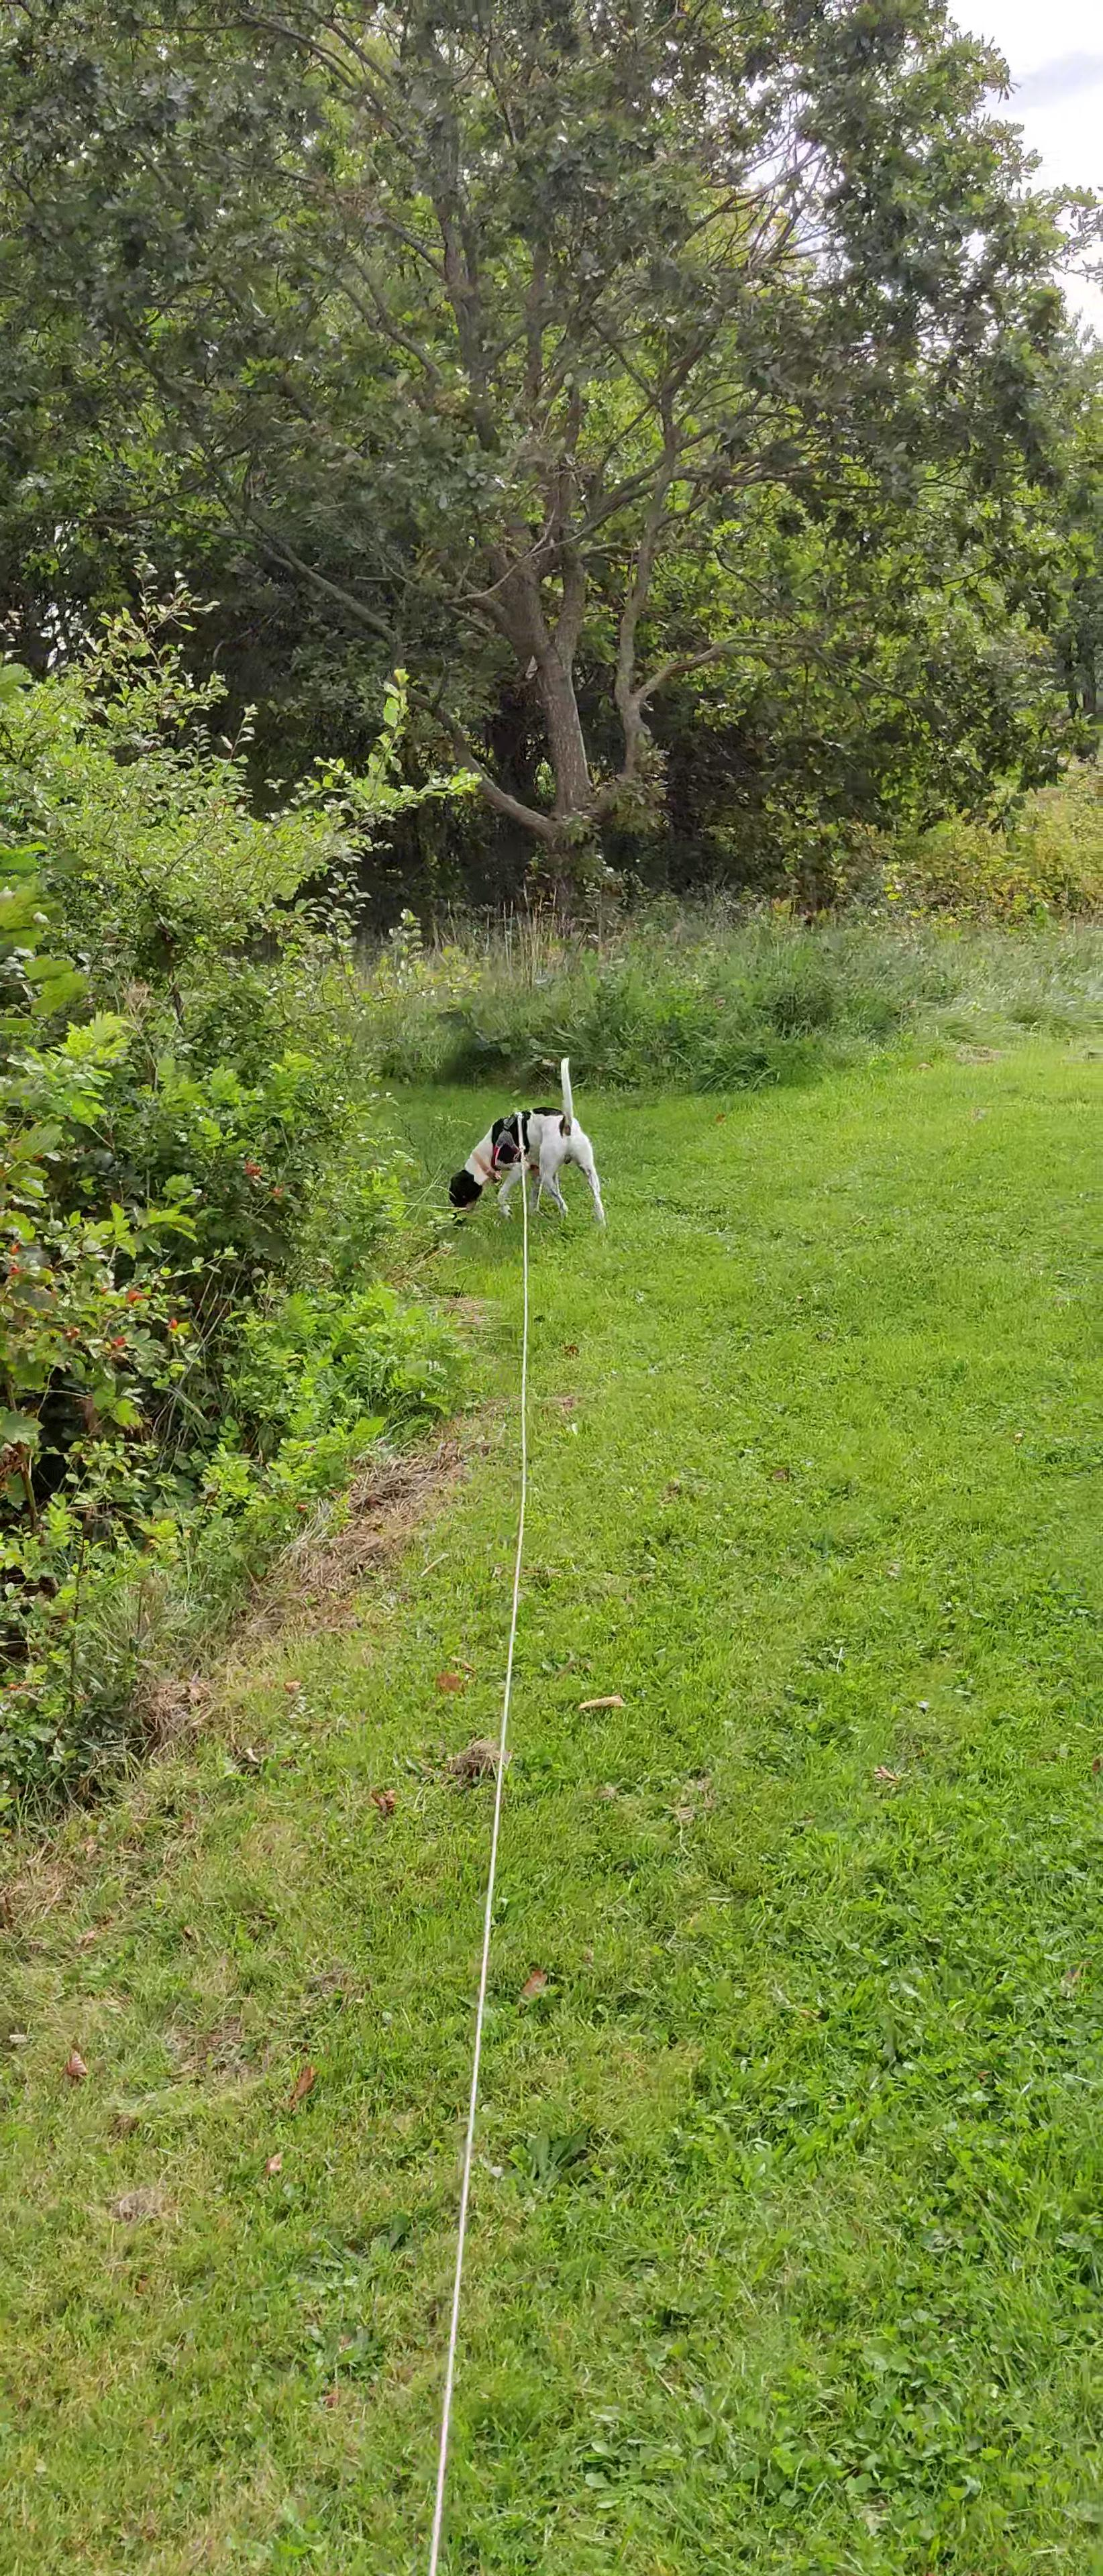Dog: (439, 1051, 610, 1237)
